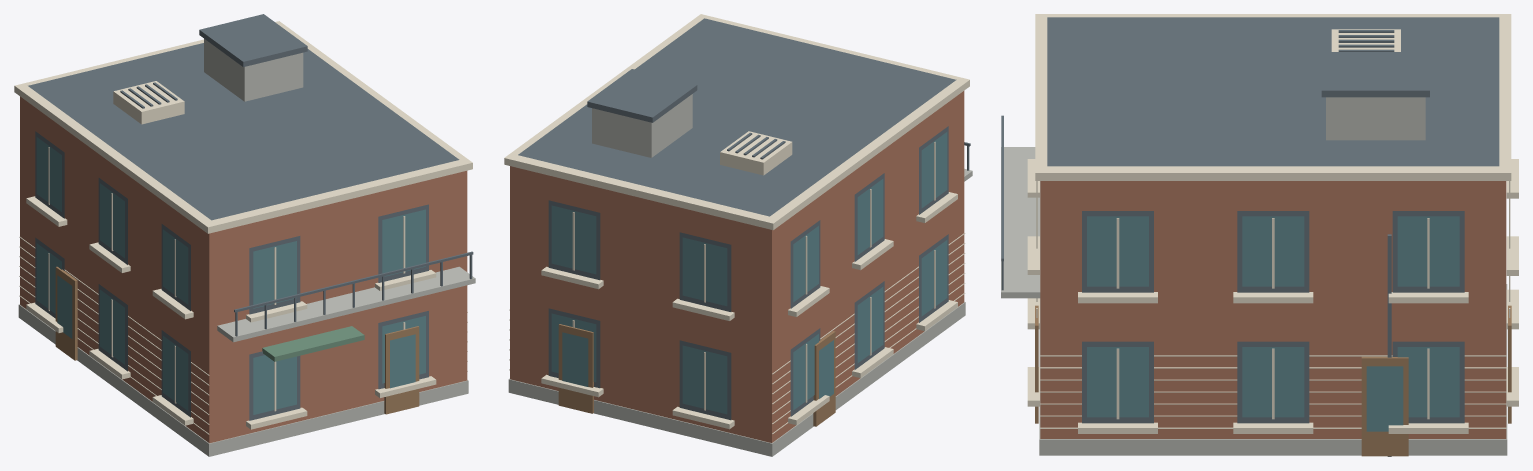
File: q03-home-0.glb
The picture shows the model from 3 angles, left to right: view 1: azimuth 30°, elevation 25°; view 2: azimuth 150°, elevation 25°; view 3: azimuth 270°, elevation 25°; orthographic projection. The views are drawn at different scales.
Bounding box in the file's own units: 7.06 × 6.72 × 9.34.
